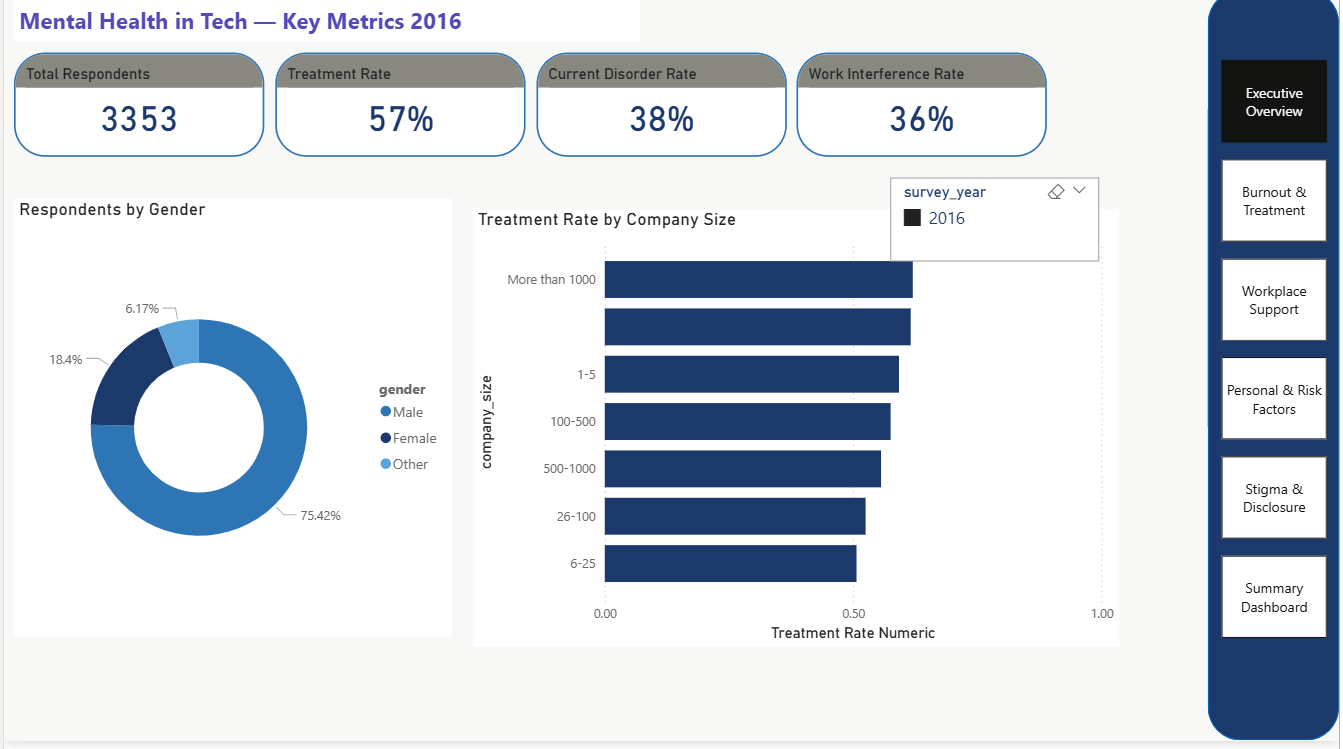

What the dashboard file says about the page in this screenshot:
{"tool":"powerbi","page":{"name":"Executive Overview","canvas":[1280,720],"ordinal":0},"visuals":[{"type":"card","title":"Total Respondents","fields":{"Values":["Measures (2).Total Respondents"]},"box":[10,60,240,100],"z":0},{"type":"card","title":"Treatment Rate","fields":{"Values":["Measures (2).Treatment_rate %"]},"box":[260,60,240,100],"z":1000},{"type":"card","title":"Current Disorder Rate","fields":{"Values":["Measures (2).Current Disorder %"]},"box":[510,60,240,100],"z":2000},{"type":"card","title":"Work Interference Rate","fields":{"Values":["Measures (2).Work Interference %"]},"box":[760,60,240,100],"z":3000},{"type":"donutChart","title":"Respondents by Gender","fields":{"Category":["survey_tbl.gender"],"Y":["Measures (2).Total Respondents"]},"box":[10,200,420,420],"z":4000},{"type":"clusteredBarChart","title":"Treatment Rate by Company Size","fields":{"Category":["survey_tbl.company_size"],"Y":["Measures (2).Treatment Rate Numeric"]},"box":[450,210,620,420],"z":5000},{"type":"slicer","fields":{"Values":["survey_tbl.survey_year"]},"box":[850,180,200,80],"z":6000},{"type":"textbox","box":[10,10,600,40],"z":7000},{"type":"shape","box":[1154.5,0,126,719.5],"z":8000},{"type":"pageNavigator","box":[1167.5,67.5,101.3,557.1],"z":9000}]}

Visuals, with their boxes in screenshot pixels (x1, y1, x2, y2), scaled from the page's 1280x720 canvas onto the 1343x749 screenshot:
"Total Respondents" card: [left=10, top=62, right=262, bottom=166]
"Treatment Rate" card: [left=273, top=62, right=525, bottom=166]
"Current Disorder Rate" card: [left=535, top=62, right=787, bottom=166]
"Work Interference Rate" card: [left=797, top=62, right=1049, bottom=166]
"Respondents by Gender" donutChart: [left=10, top=208, right=451, bottom=645]
"Treatment Rate by Company Size" clusteredBarChart: [left=472, top=218, right=1123, bottom=655]
slicer - survey_tbl.survey_year: [left=892, top=187, right=1102, bottom=270]
textbox: [left=10, top=10, right=640, bottom=52]
shape: [left=1211, top=0, right=1342, bottom=748]
pageNavigator: [left=1225, top=70, right=1331, bottom=650]
